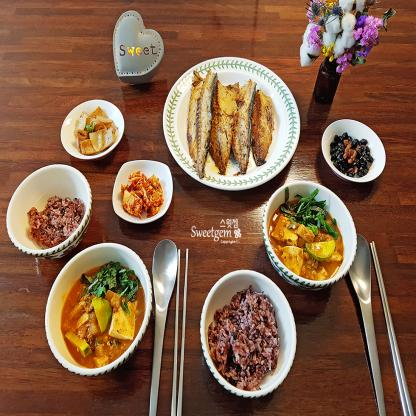Peixe: (186, 73, 282, 176)
